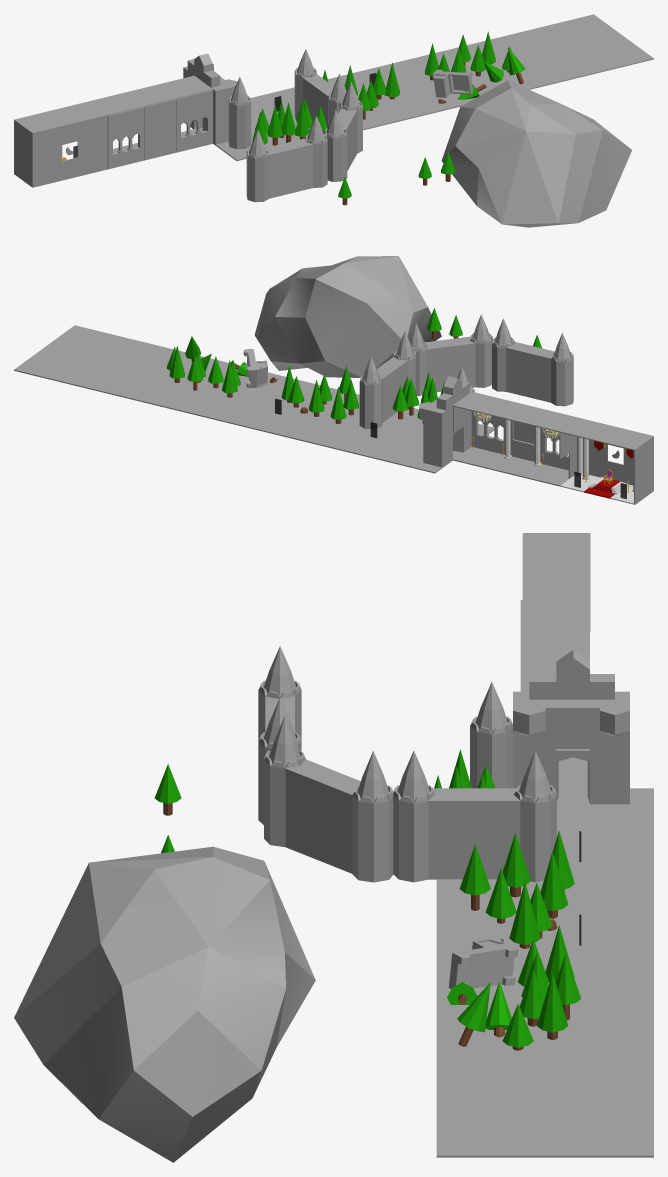
The model's file is TestOutPut2.fbx.
The picture shows the model from 3 angles, top to bottom: view 1: azimuth 30°, elevation 25°; view 2: azimuth 150°, elevation 25°; view 3: azimuth 270°, elevation 25°; orthographic projection. The views are drawn at different scales.
Visible parts, largest first — view 1: pCube59, pCube70, pCube57, pCube6, pCube63, pCube53, pCube55, pCube56, pCube15, pCube38, pCube21, pCube18 (+10 smaller); view 2: pCube59, pCube70, pCube57, pCube63, pCube53, pCube55, pCube33, pCube56, pCube38, pCube15, pCube16, pCube8 (+10 smaller); view 3: pCube59, pCube70, pCube56, pCube55, pCube53, pCube63, pCube38, pCube33, pCube15, pCube8, pCube57, pCube39 (+8 smaller).
Part boxes in pixels (bbox=[...]): pCube59: bbox=[441, 80, 631, 227]; pCube70: bbox=[490, 14, 653, 84]; pCube57: bbox=[246, 115, 327, 202]; pCube6: bbox=[33, 115, 106, 187]; pCube63: bbox=[385, 41, 549, 110]; pCube53: bbox=[281, 65, 445, 130]; pCube55: bbox=[324, 81, 362, 181]; pCube56: bbox=[294, 49, 346, 133]; pCube15: bbox=[89, 76, 211, 115]; pCube38: bbox=[183, 53, 237, 144]; pCube21: bbox=[107, 107, 144, 169]; pCube18: bbox=[176, 90, 212, 152]; pCube59: bbox=[254, 256, 441, 377]; pCube70: bbox=[14, 325, 179, 396]; pCube57: bbox=[492, 318, 573, 406]; pCube63: bbox=[119, 351, 284, 421]; pCube53: bbox=[224, 376, 359, 447]; pCube55: bbox=[409, 314, 492, 395]; pCube33: bbox=[330, 408, 494, 473]; pCube56: bbox=[359, 331, 416, 428]; pCube38: bbox=[419, 376, 474, 467]; pCube15: bbox=[454, 392, 577, 432]; pCube16: bbox=[454, 447, 568, 486]; pCube8: bbox=[560, 418, 651, 450]; pCube59: bbox=[14, 846, 315, 1162]; pCube70: bbox=[436, 1063, 653, 1157]; pCube56: bbox=[393, 750, 556, 882]; pCube55: bbox=[264, 716, 393, 882]; pCube53: bbox=[436, 880, 653, 971]; pCube63: bbox=[436, 972, 653, 1063]; pCube38: bbox=[513, 650, 629, 804]; pCube33: bbox=[436, 788, 653, 879]; pCube15: bbox=[522, 599, 589, 690]; pCube8: bbox=[525, 534, 589, 598]; pCube57: bbox=[258, 646, 301, 824]; pCube39: bbox=[470, 682, 513, 788].
Bounding box in the file's own units: 573 × 132 × 295.
